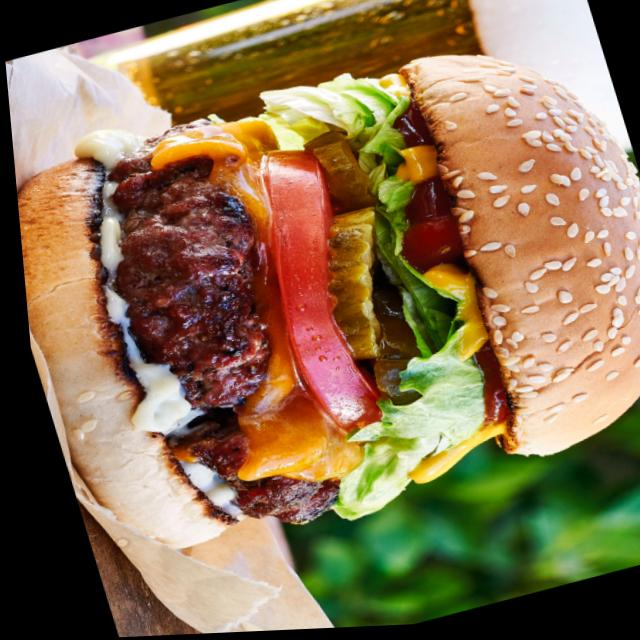burger: (2, 12, 640, 580)
